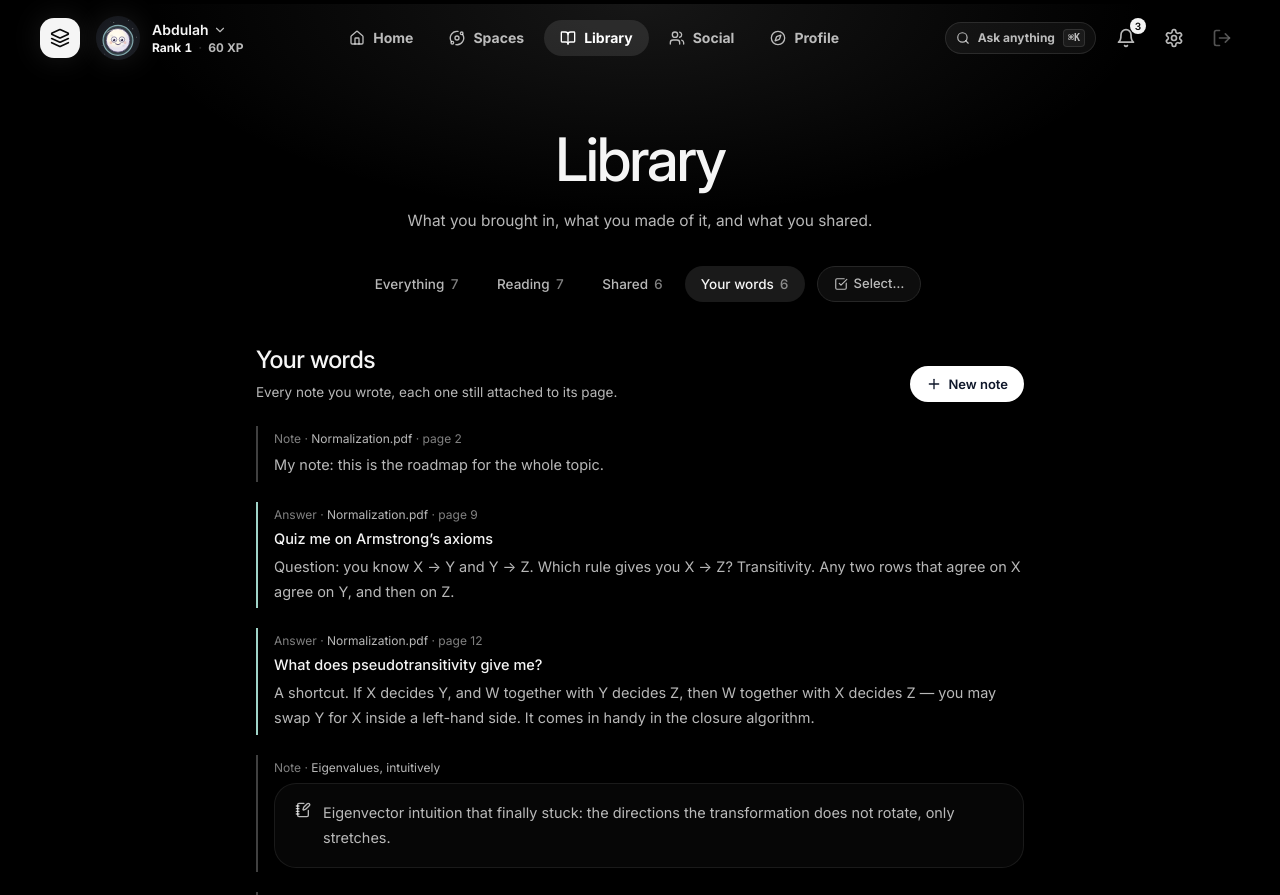
an unfiled note says so › never invents a Lesson or a Space for it
Click the button "New note" at {"x": 967, "y": 384}, box [910,366,1024,402]
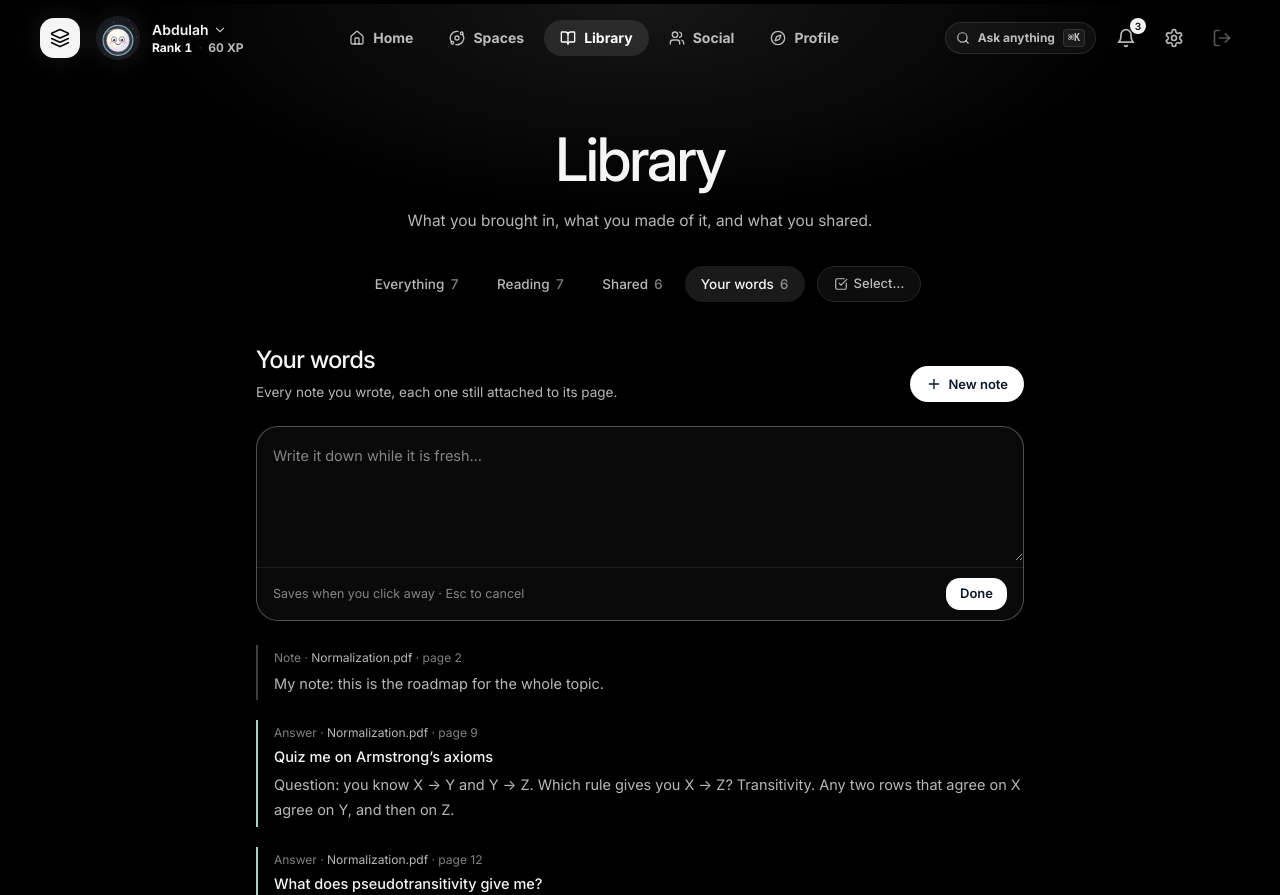
Type "Belongs to nothing yet." into the text box named "Note" at {"x": 640, "y": 494}, box [257,427,1023,561]
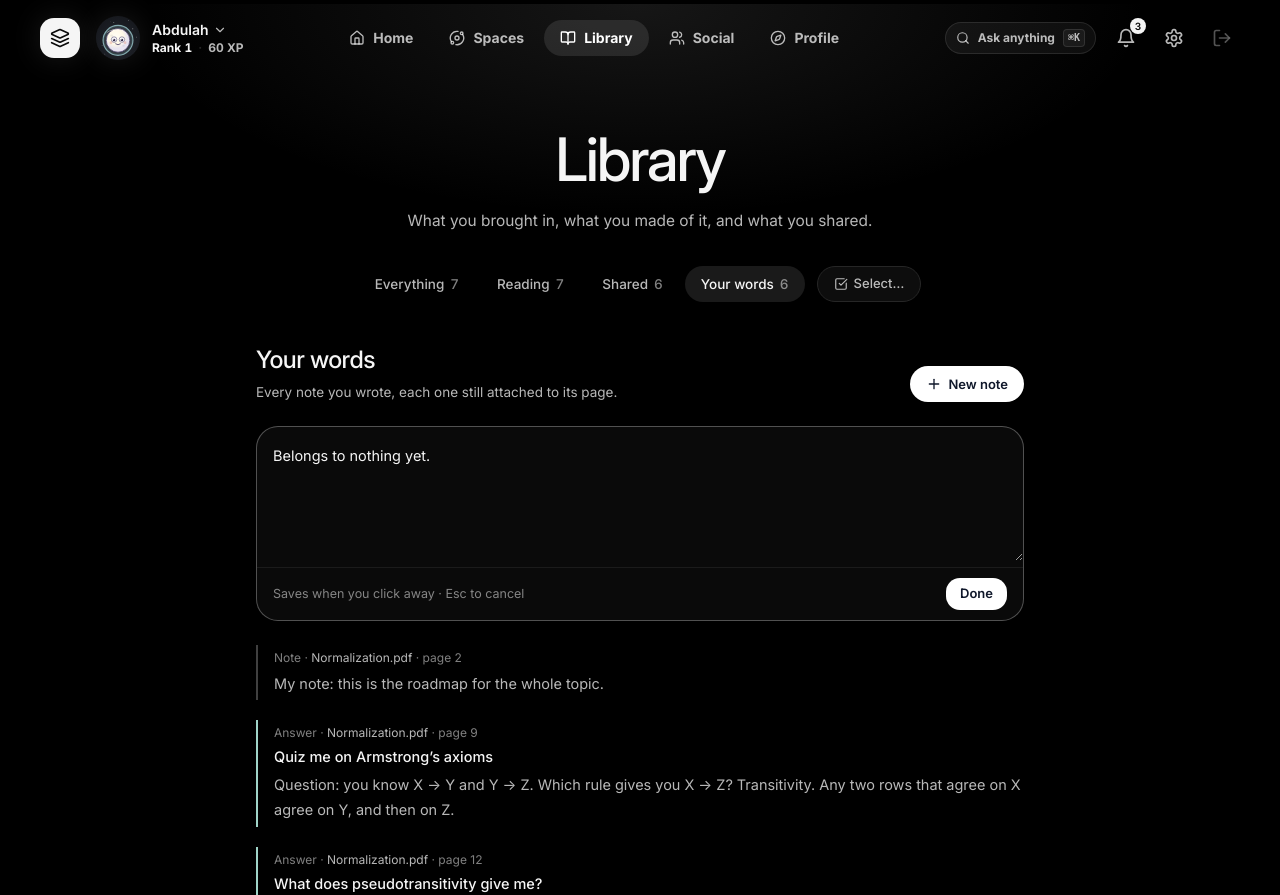
Leave the text box named "Note", box [257,427,1023,561]
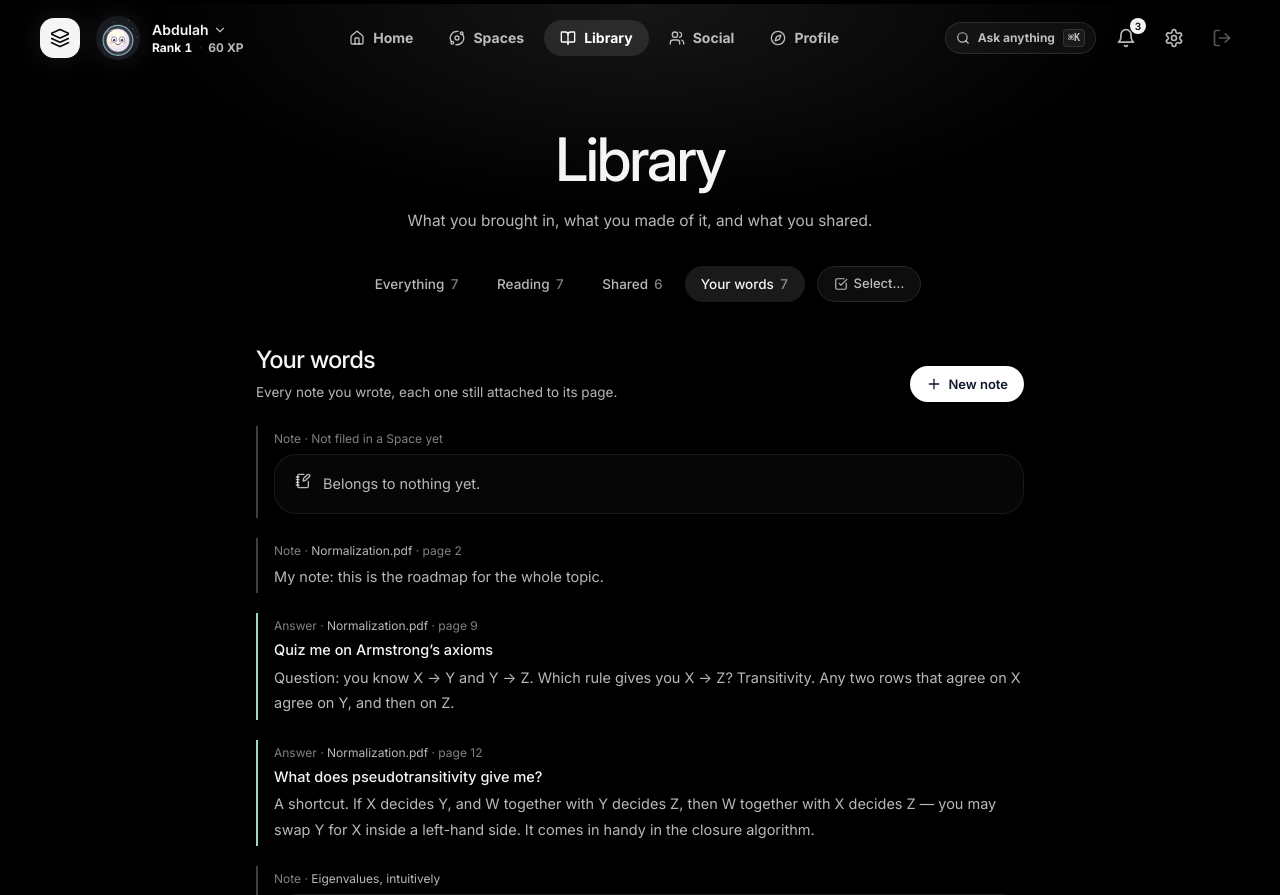
Check: the text "Note · Not filed in a Space yet" is shown, box [274,431,443,446]
